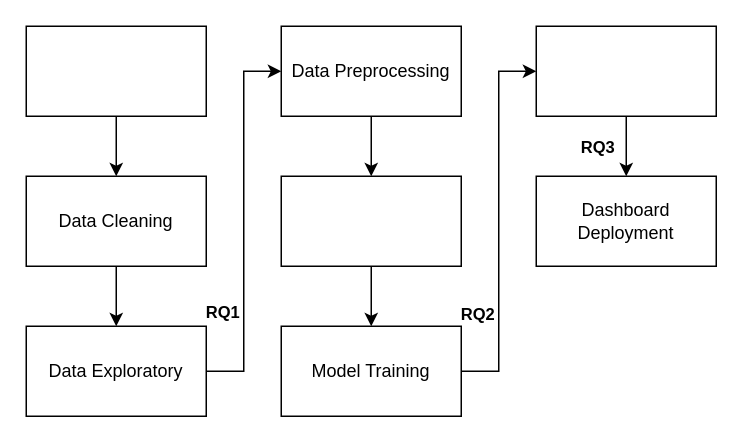
Image size: 743x443. Some labels were removed from this diagram. Each missing label, with the box of its shape:
Data Collection: (25, 25, 206, 116)
Evaluation: (535, 25, 716, 116)
Feature Engineering: (280, 175, 461, 266)
